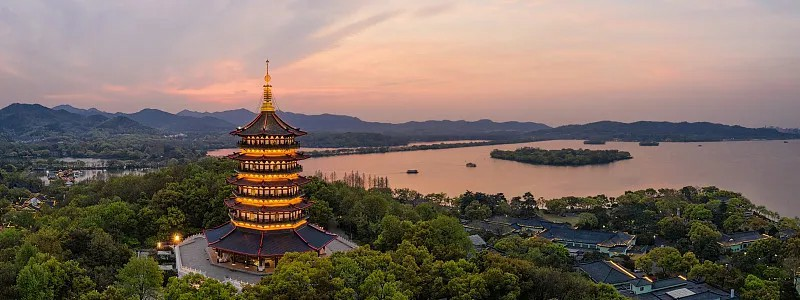Leifeng: (202, 59, 339, 275)
